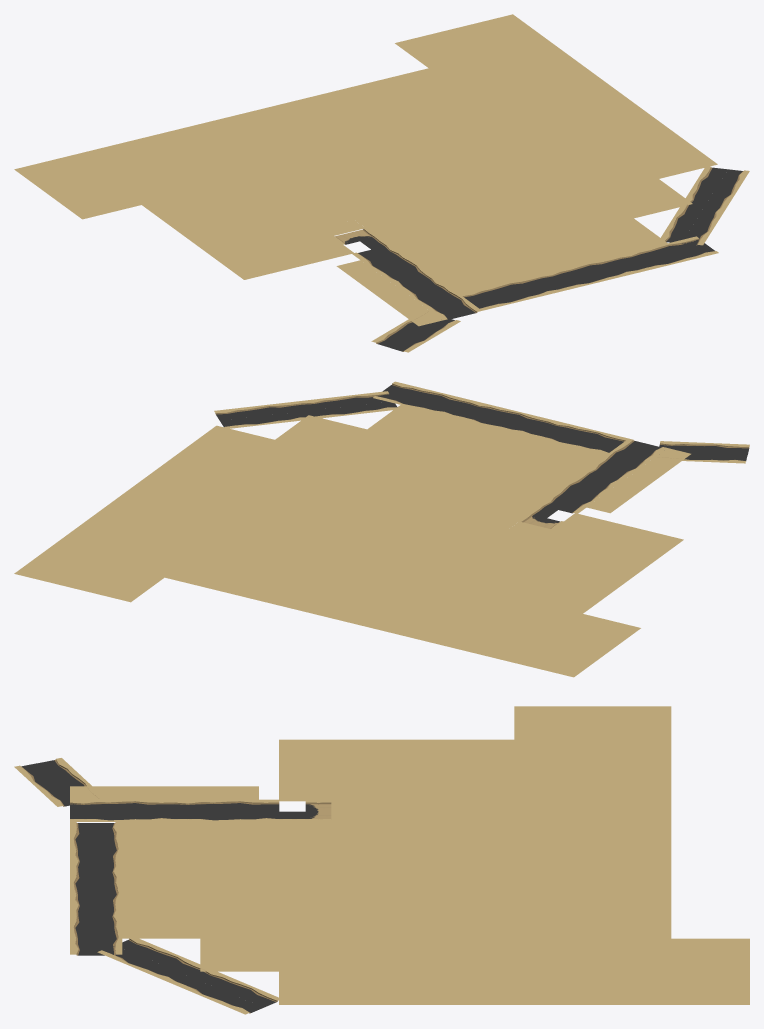
The model's file is Sand.fbx.
3 renders of one model, top to bottom at view 1: azimuth 30°, elevation 25°; view 2: azimuth 150°, elevation 25°; view 3: azimuth 270°, elevation 25°, orthographic. The views are drawn at different scales.
Parts seen in each view (by area): view 1: Sand; view 2: Sand; view 3: Sand.
Boxes of the visible parts, x1=… form: Sand: x1=14, y1=14, x2=749, y2=352; Sand: x1=14, y1=381, x2=749, y2=677; Sand: x1=14, y1=706, x2=749, y2=1014.
Size of the model in its own units: 139 by 0.1948 by 141.
